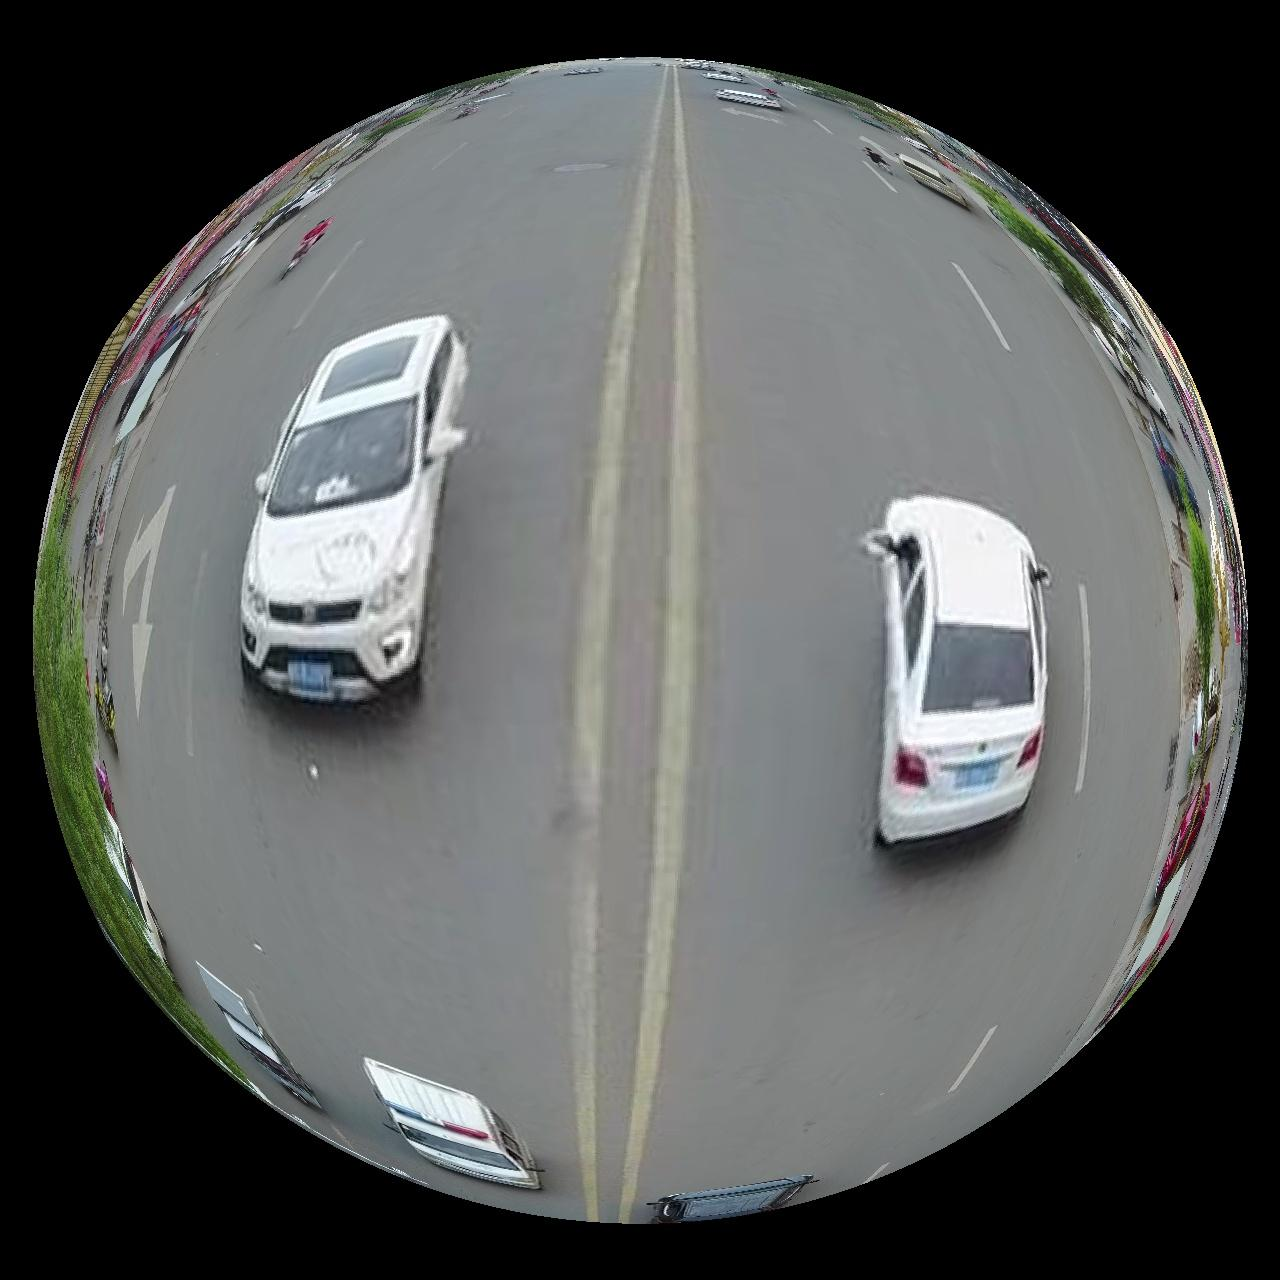cars: (239, 314, 468, 703), (869, 495, 1049, 844), (365, 1061, 539, 1191), (196, 964, 321, 1111), (648, 1177, 815, 1226), (1158, 784, 1213, 901), (716, 87, 783, 109)
